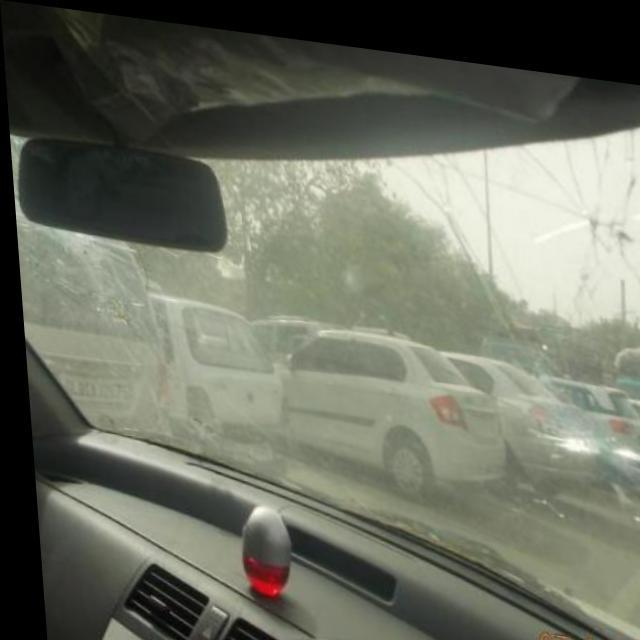glass shatter: (12, 200, 159, 337), (542, 134, 640, 315)
